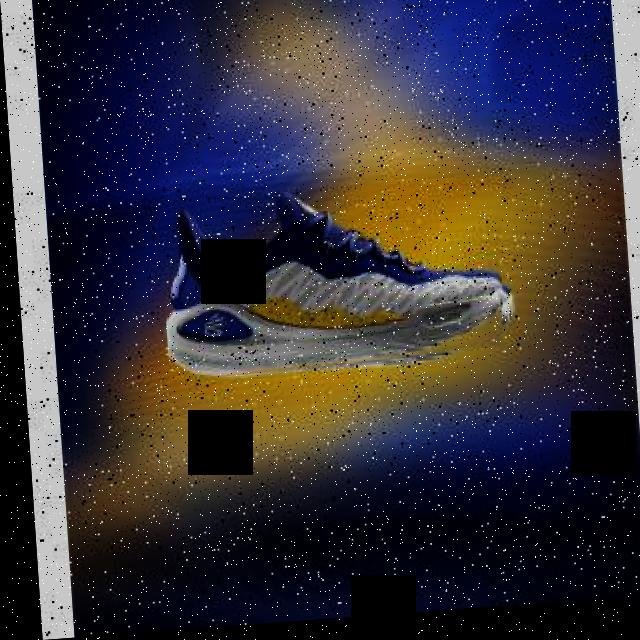shoe: (155, 184, 509, 386)
